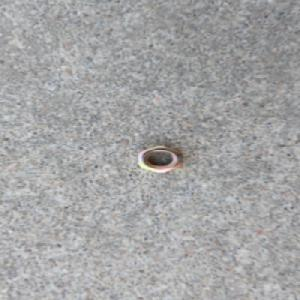Nut: (135, 145, 185, 174)
